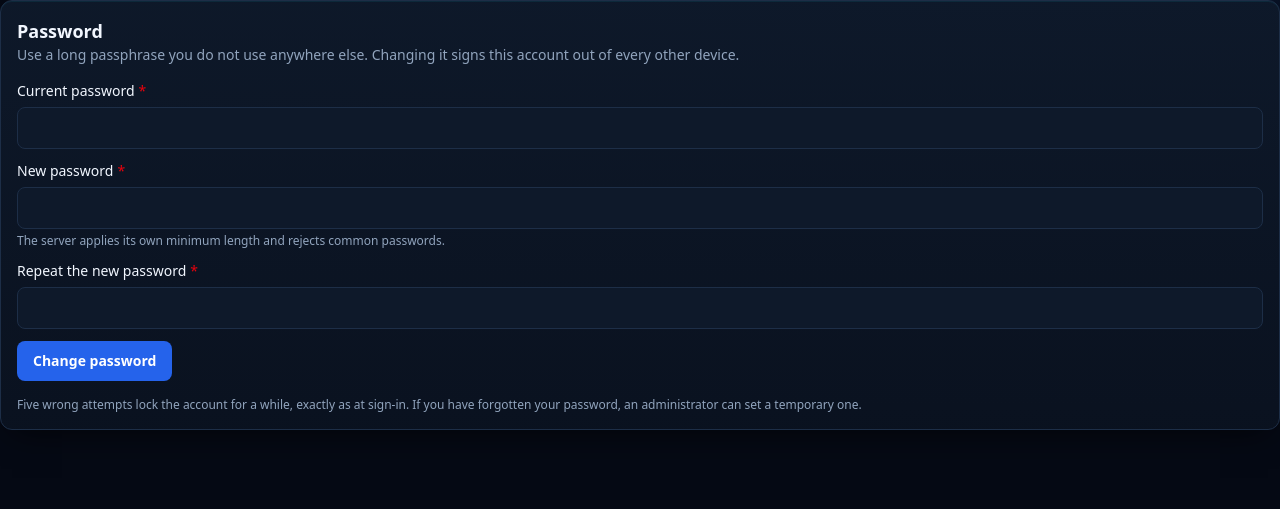
Test: PasswordSettings › shows the server's message for a wrong current password or a weak new one
Type "old-password-1" into the password field labelled "Current password*" at (640, 128), box [17,107,1263,149]
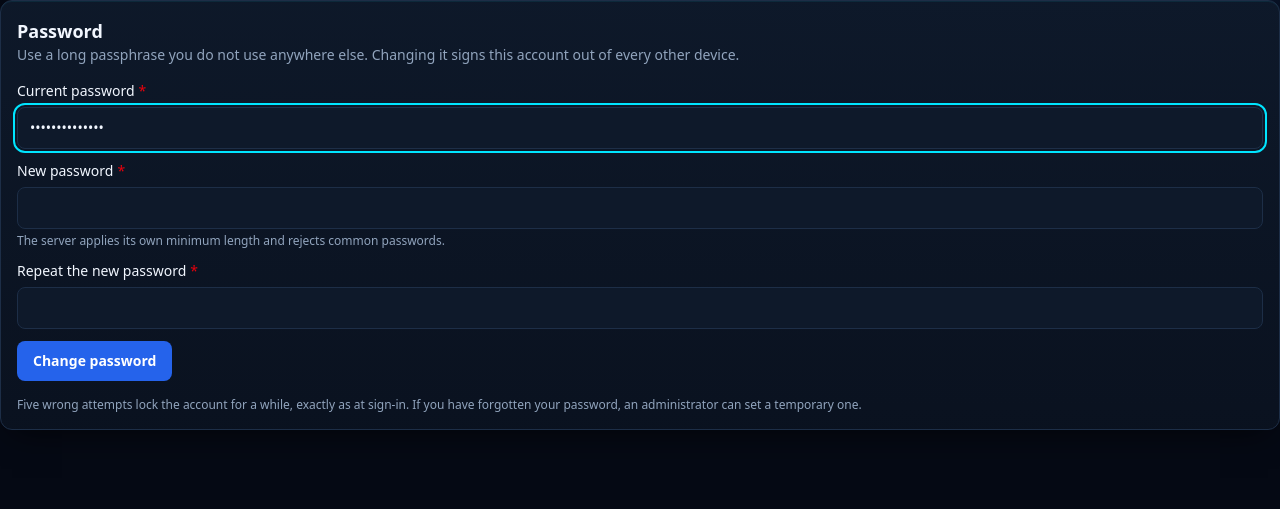
Type "short-1" into the password field labelled "New password" at (640, 208), box [17,187,1263,229]
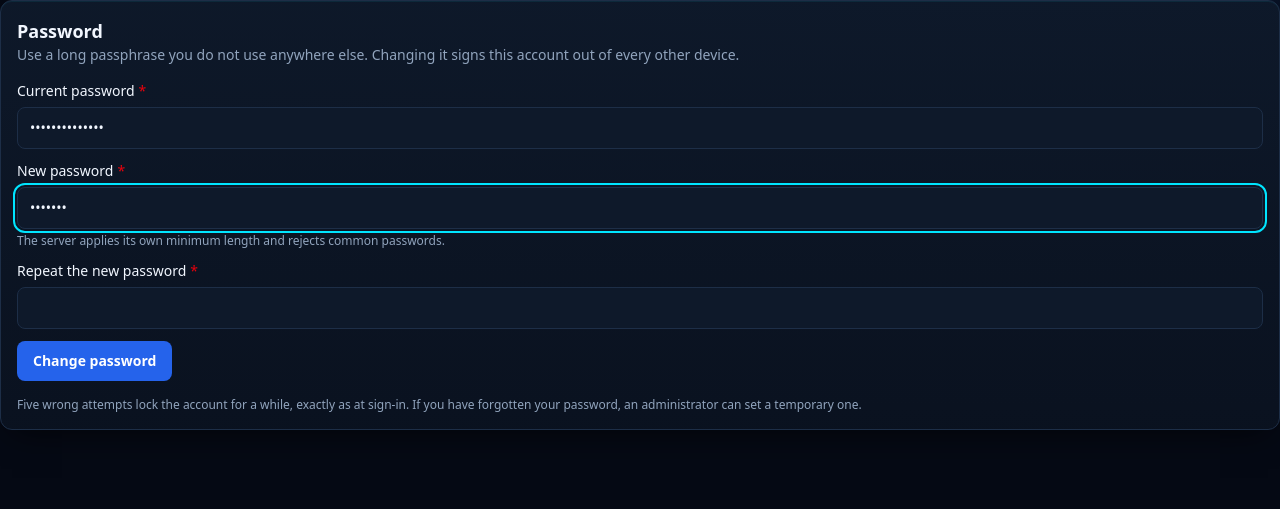
Type "short-1" into the password field labelled "Repeat the new password*" at (640, 308), box [17,287,1263,329]
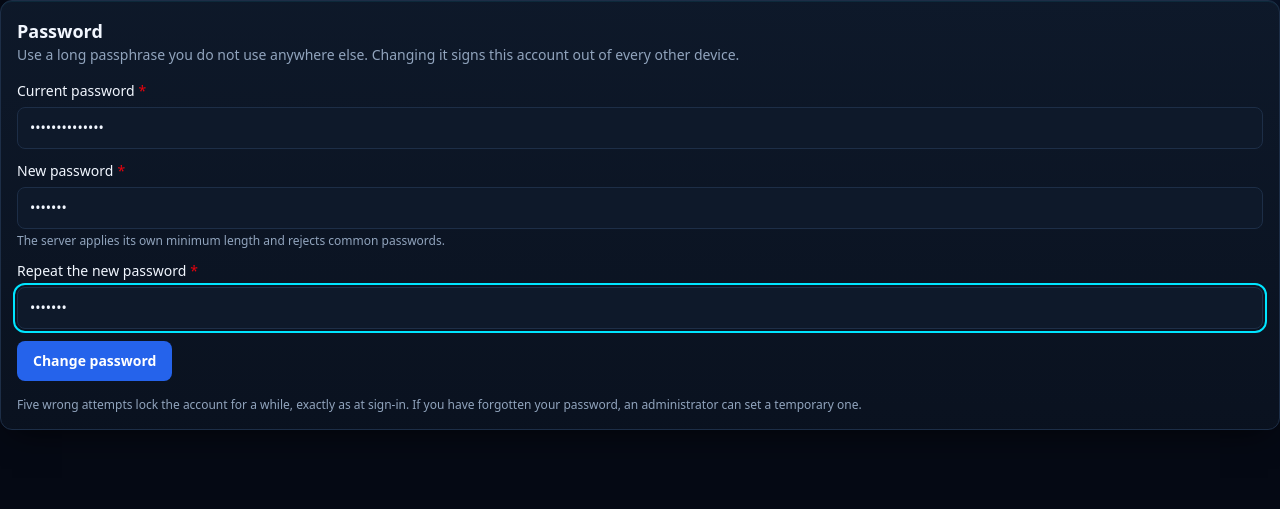
Click the button "Change password" at (95, 361), box [17,341,172,381]
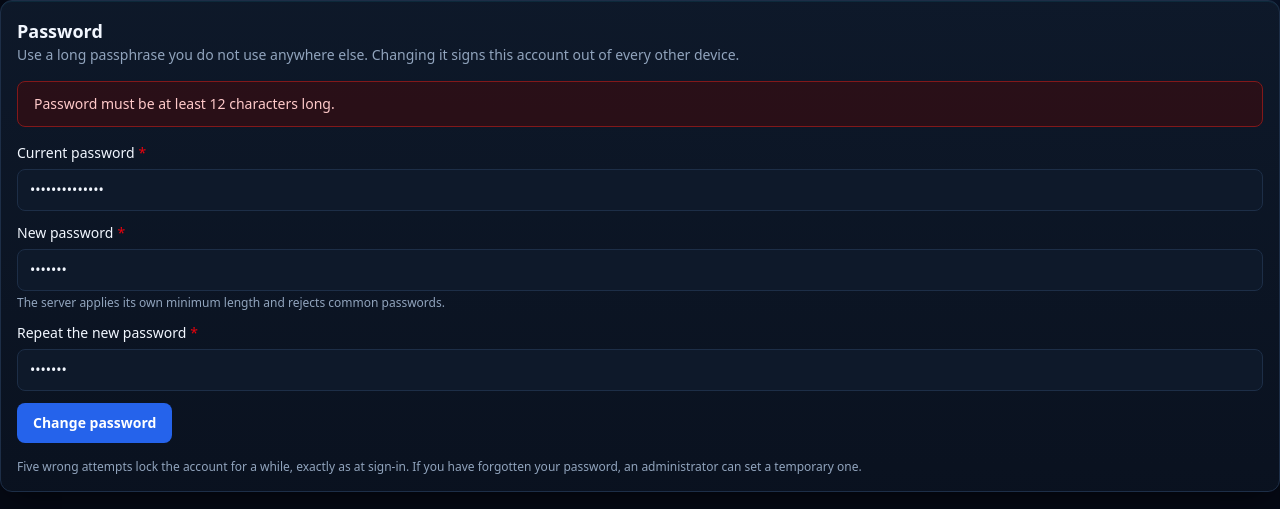
Now the message shows "at least 12 characters", box [34,94,335,113]
